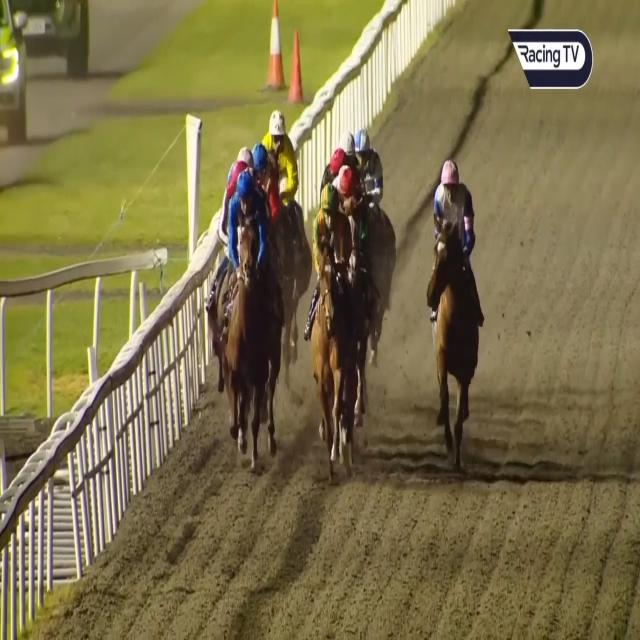horses-racing: (428, 159, 491, 468), (307, 181, 364, 467), (228, 175, 275, 464), (262, 108, 306, 262), (334, 166, 372, 276), (355, 125, 394, 230), (249, 143, 286, 216), (319, 147, 352, 199), (217, 157, 253, 202), (229, 136, 262, 168), (342, 133, 364, 170)
